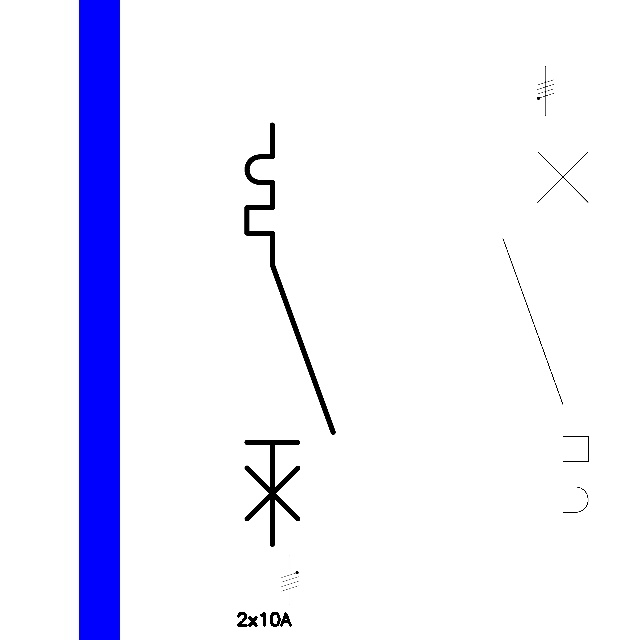interruptor_termomagnetico: (236, 114, 344, 555), (492, 115, 599, 554)
